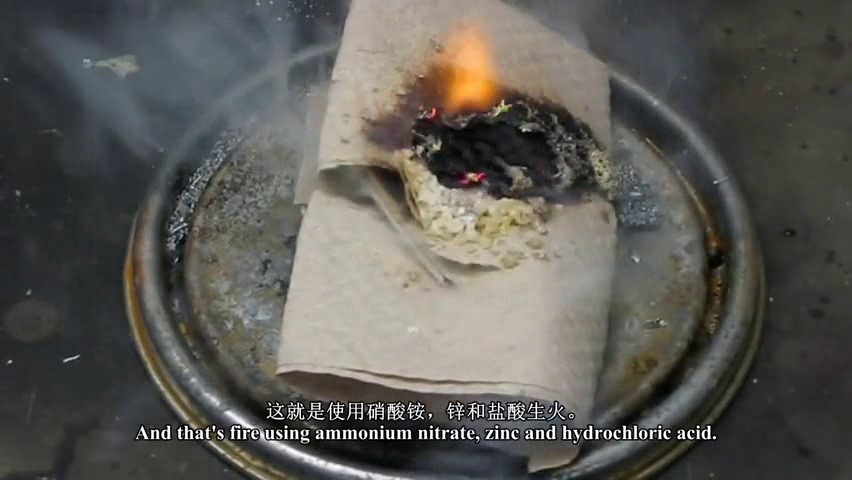fire: (427, 24, 509, 125)
